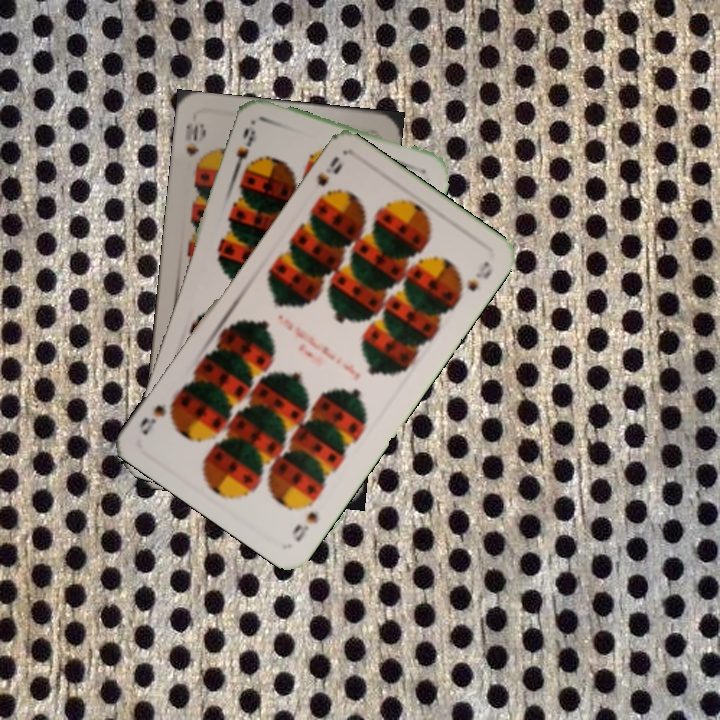S10: (180, 119, 207, 175)
S9: (229, 123, 259, 177), (287, 507, 321, 545), (313, 152, 346, 189)
